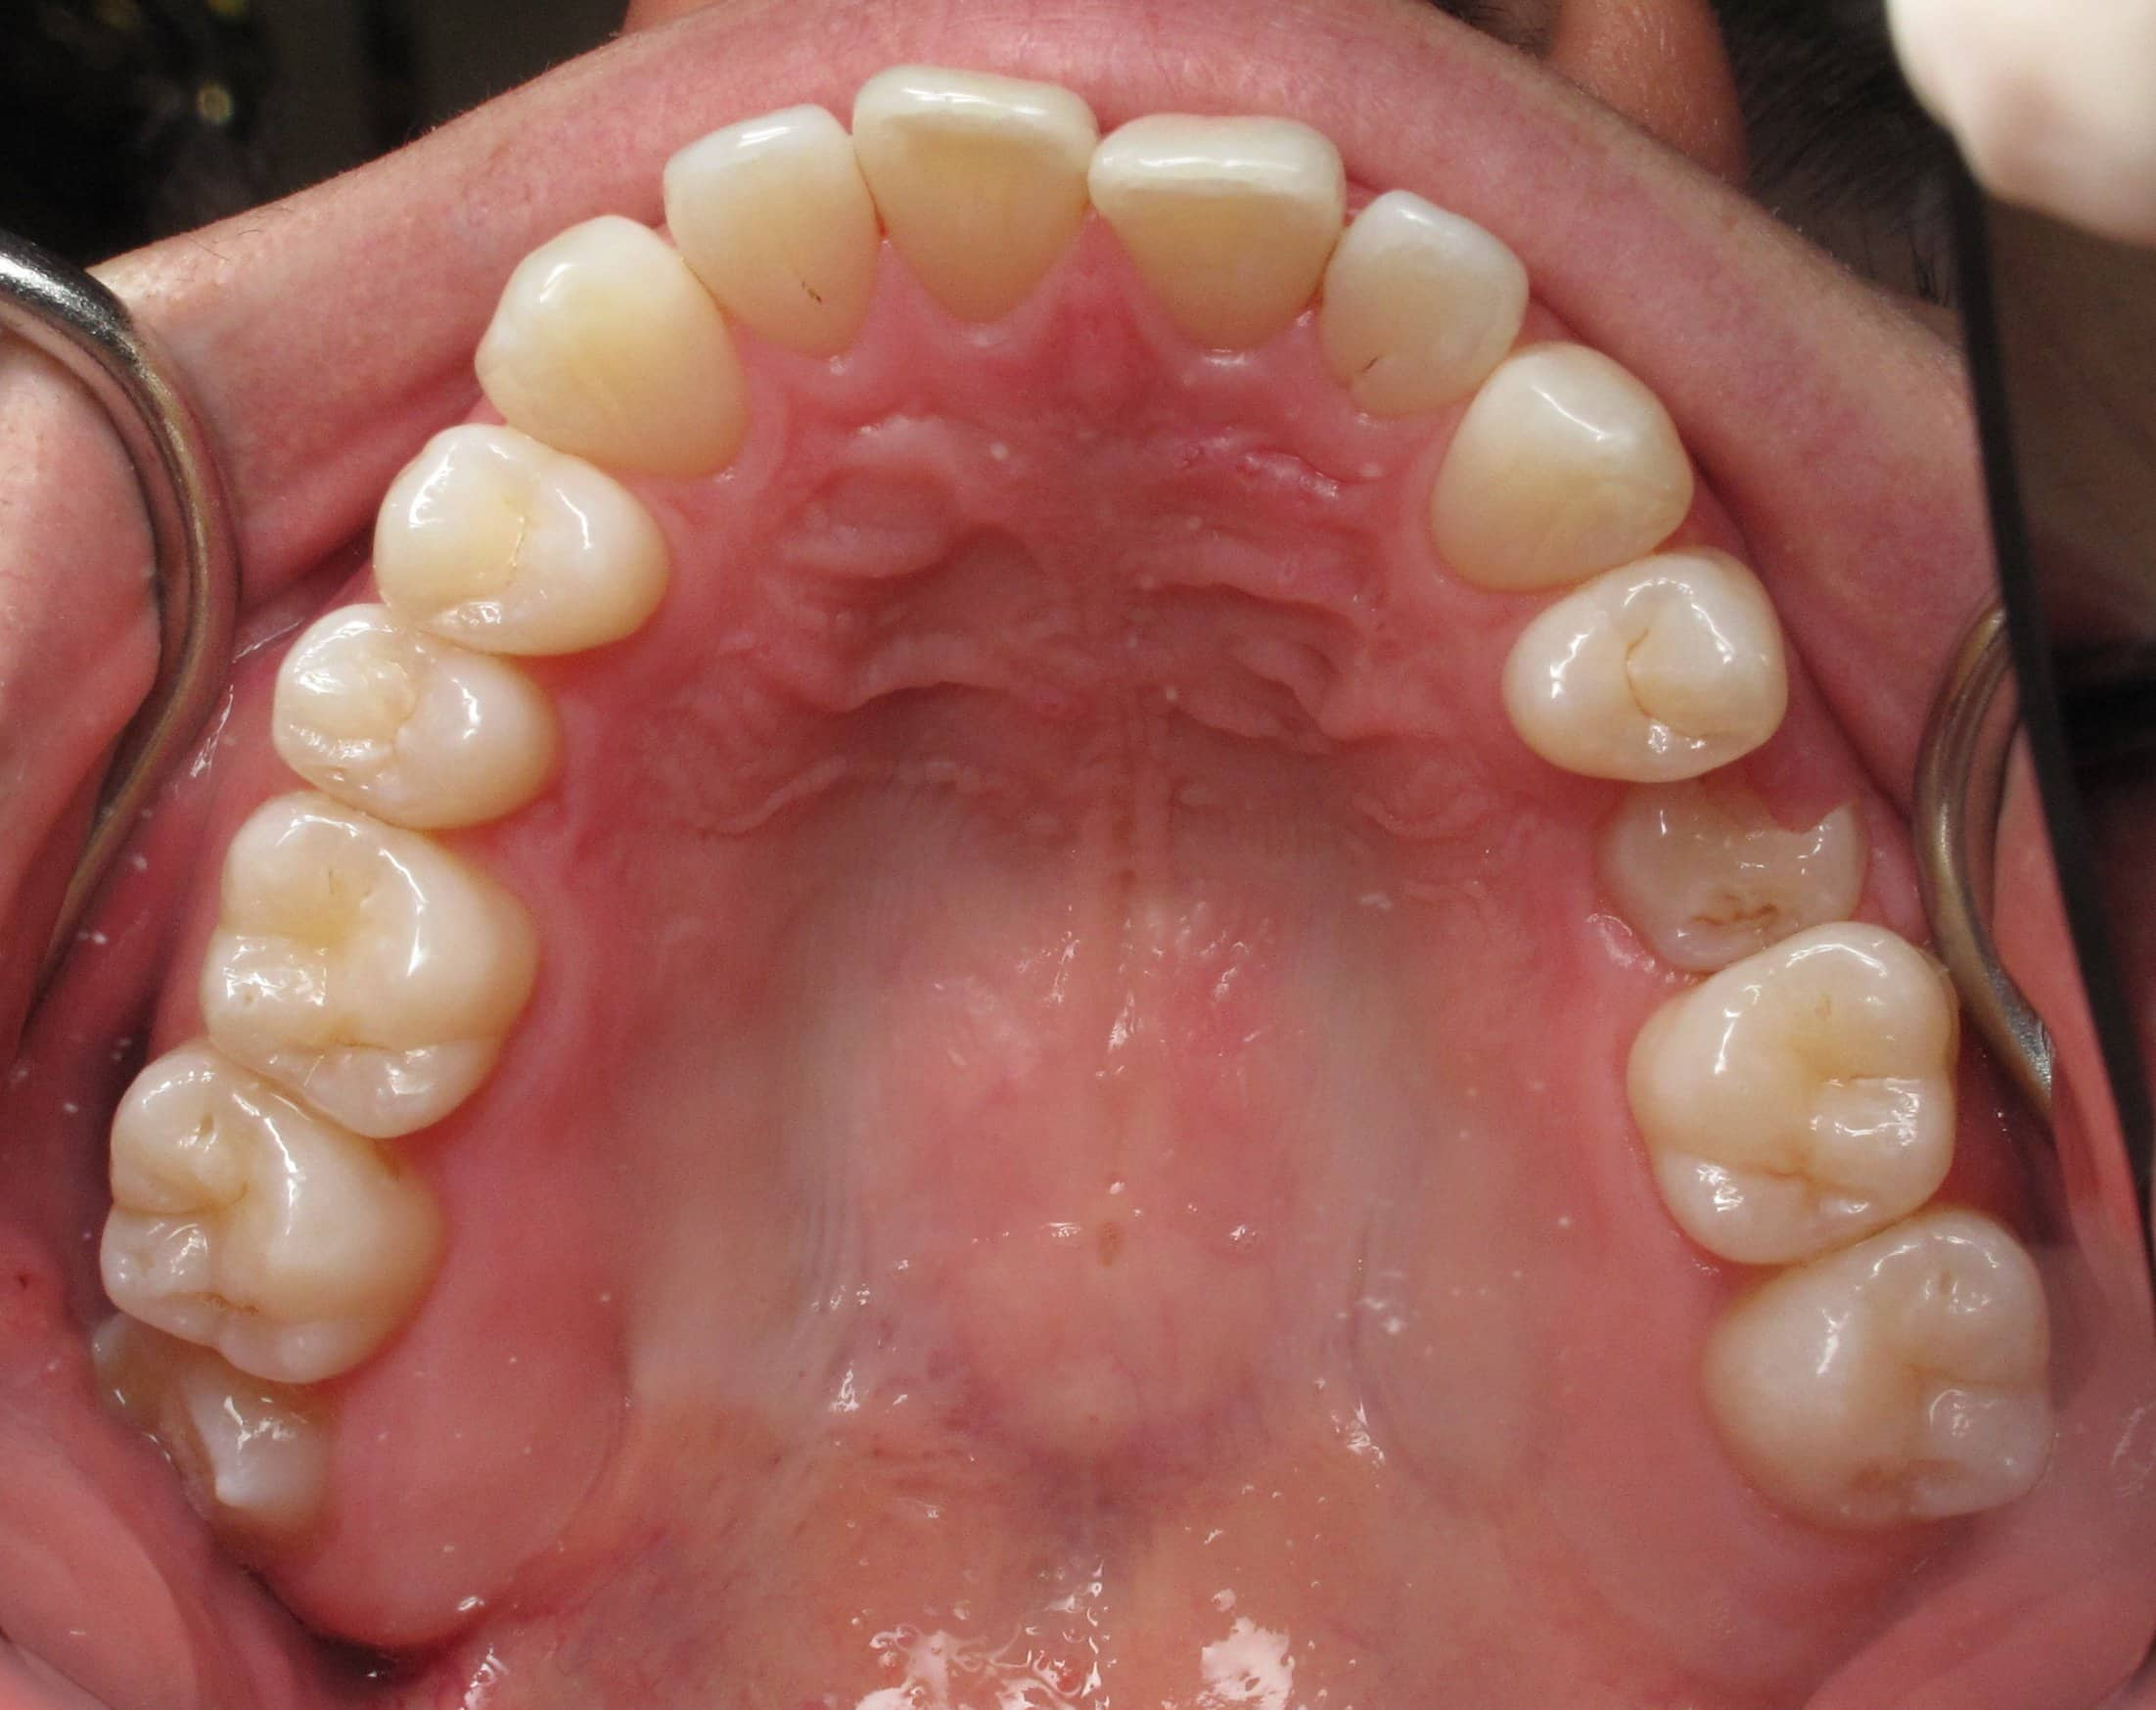UL1BC_healthy: (1515, 567, 1781, 789)
UL1M_healthy: (1662, 954, 1953, 1236)
UL2BC_decay: (1615, 800, 1865, 935)
UL2M_healthy: (1725, 1246, 2053, 1505)
ULCI_healthy: (1102, 107, 1337, 348)
ULC_healthy: (1428, 354, 1696, 586)
ULLI_healthy: (1333, 194, 1517, 410)
UR1BC_healthy: (385, 445, 674, 656)
UR1M_healthy: (210, 805, 532, 1117)
UR2BC_healthy: (269, 614, 558, 812)
UR2M_healthy: (110, 1094, 439, 1372)
URCI_healthy: (871, 61, 1094, 319)
URC_healthy: (488, 233, 759, 469)
URLI_healthy: (667, 117, 880, 359)
